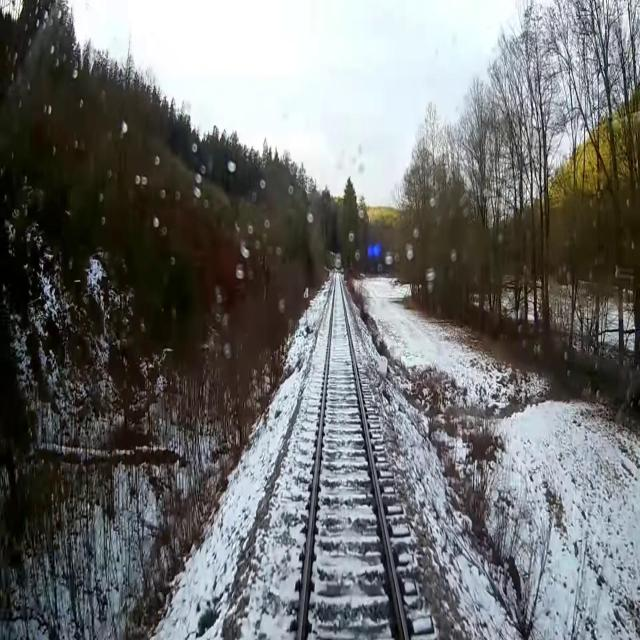rail-track: (302, 272, 404, 639)
